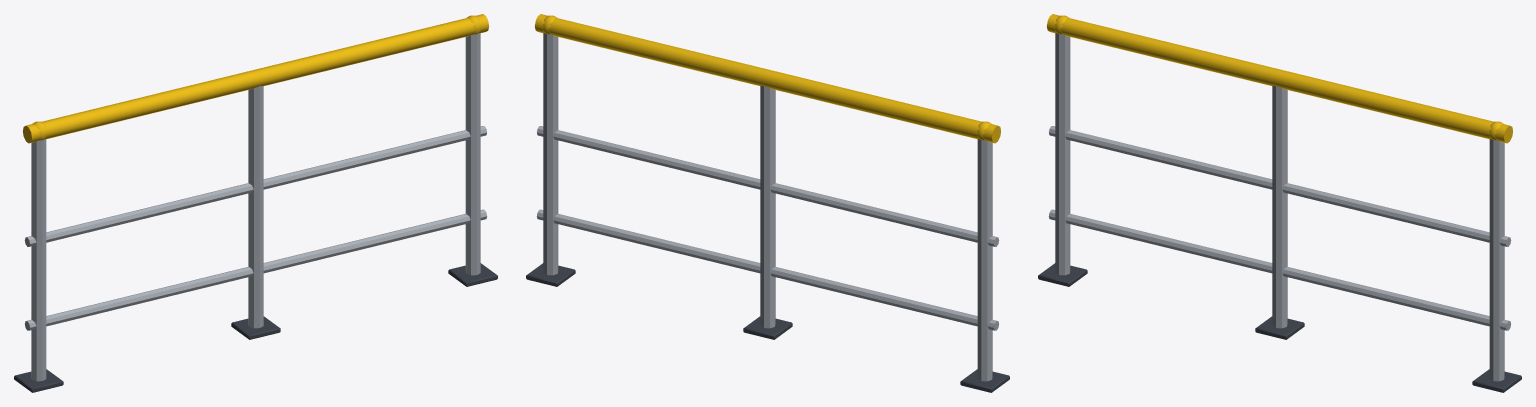
The model's file is railing_guard_tube.glb.
3 views of the same model, side by side, from view 1: azimuth 30°, elevation 25°; view 2: azimuth 150°, elevation 25°; view 3: azimuth 330°, elevation 25° (orthographic).
Visible parts, largest first — view 1: railing_guard_tube; view 2: railing_guard_tube; view 3: railing_guard_tube.
Part boxes in pixels (<box>): railing_guard_tube: <box>14,14,497,392</box>; railing_guard_tube: <box>526,14,1009,392</box>; railing_guard_tube: <box>1038,14,1521,392</box>.
Size of the model in its own units: 2.04 by 1.09 by 0.14.
